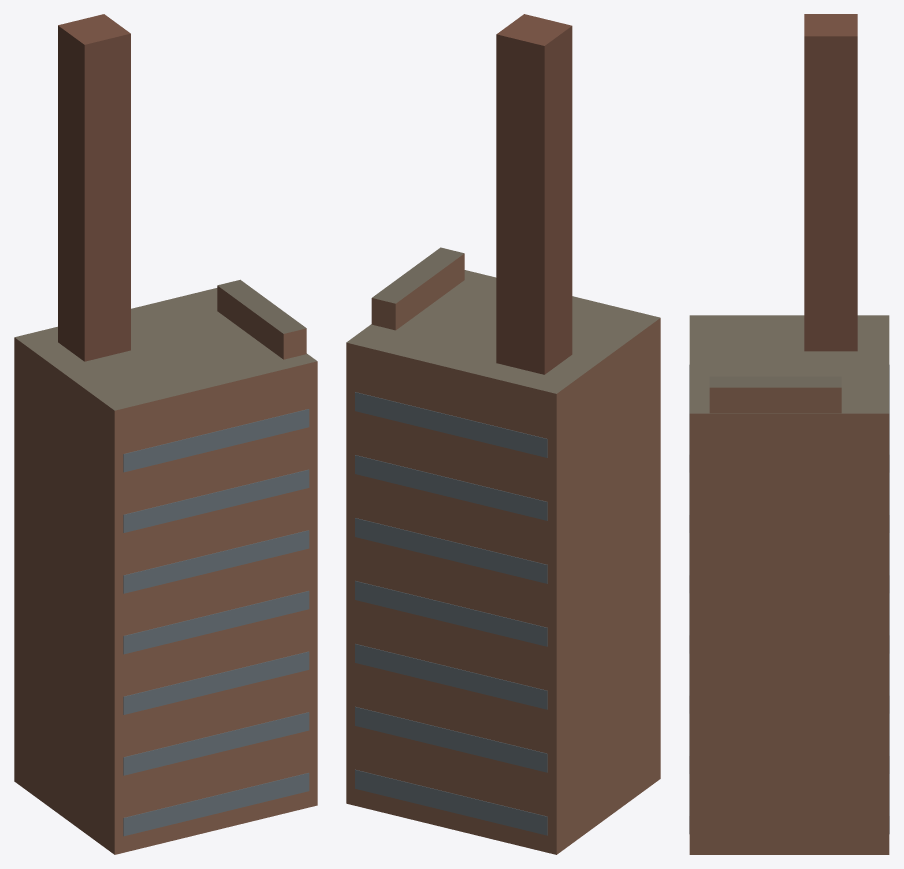
The model's file is ew-boiler-tower.tone-v1.lod2.glb.
3 views of the same model, side by side, from view 1: azimuth 30°, elevation 25°; view 2: azimuth 150°, elevation 25°; view 3: azimuth 270°, elevation 25° (orthographic). The views are drawn at different scales.
Visible parts, largest first — view 1: ew-boiler-tower; view 2: ew-boiler-tower; view 3: ew-boiler-tower.
Boxes of the visible parts, left/top/right/bottom form: ew-boiler-tower: left=14, top=14, right=317, bottom=854; ew-boiler-tower: left=346, top=14, right=660, bottom=854; ew-boiler-tower: left=689, top=14, right=889, bottom=854.
Bounding box in the file's own units: 14 × 50.2 × 12.06.
